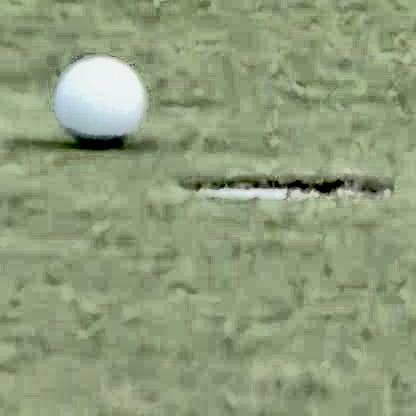golfball: (54, 47, 143, 143)
